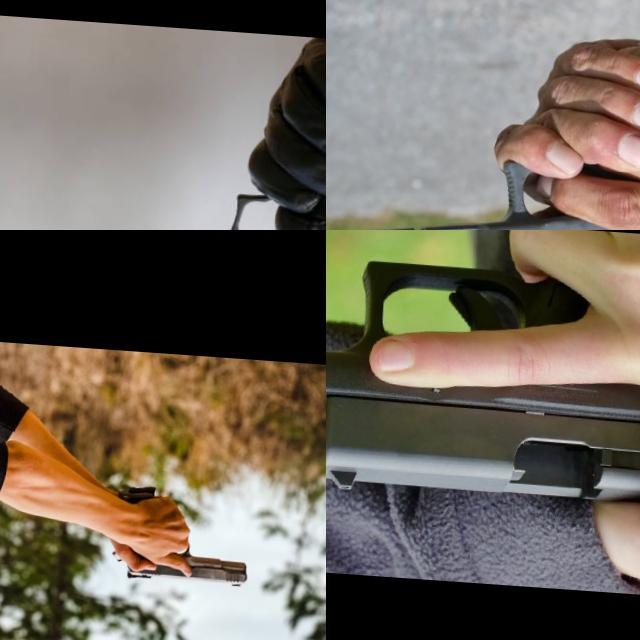handgun: (326, 245, 640, 515), (350, 142, 640, 230), (140, 182, 326, 230), (107, 537, 250, 590)
